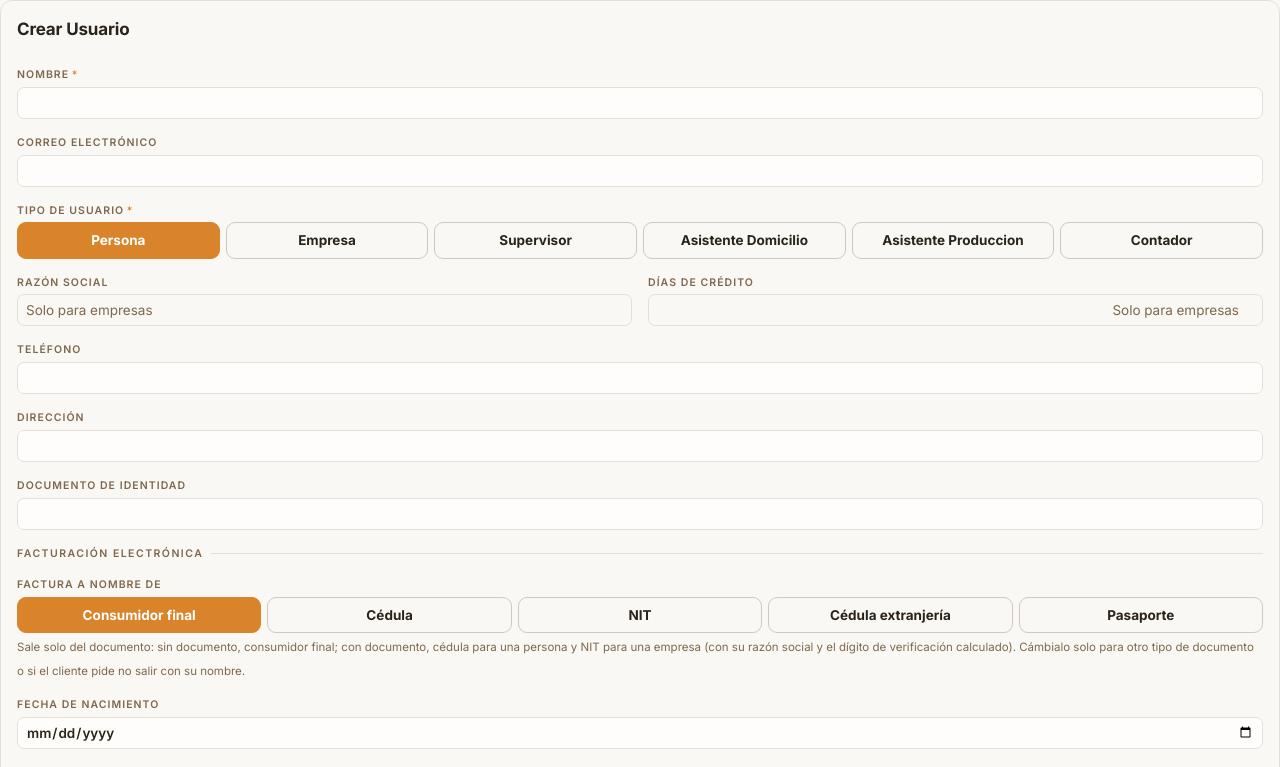
Test: BakeryUserForm validation › blocks a delivery without email
Click the radio button labelled "Asistente Domicilio": (744, 240) [643,222,846,259]
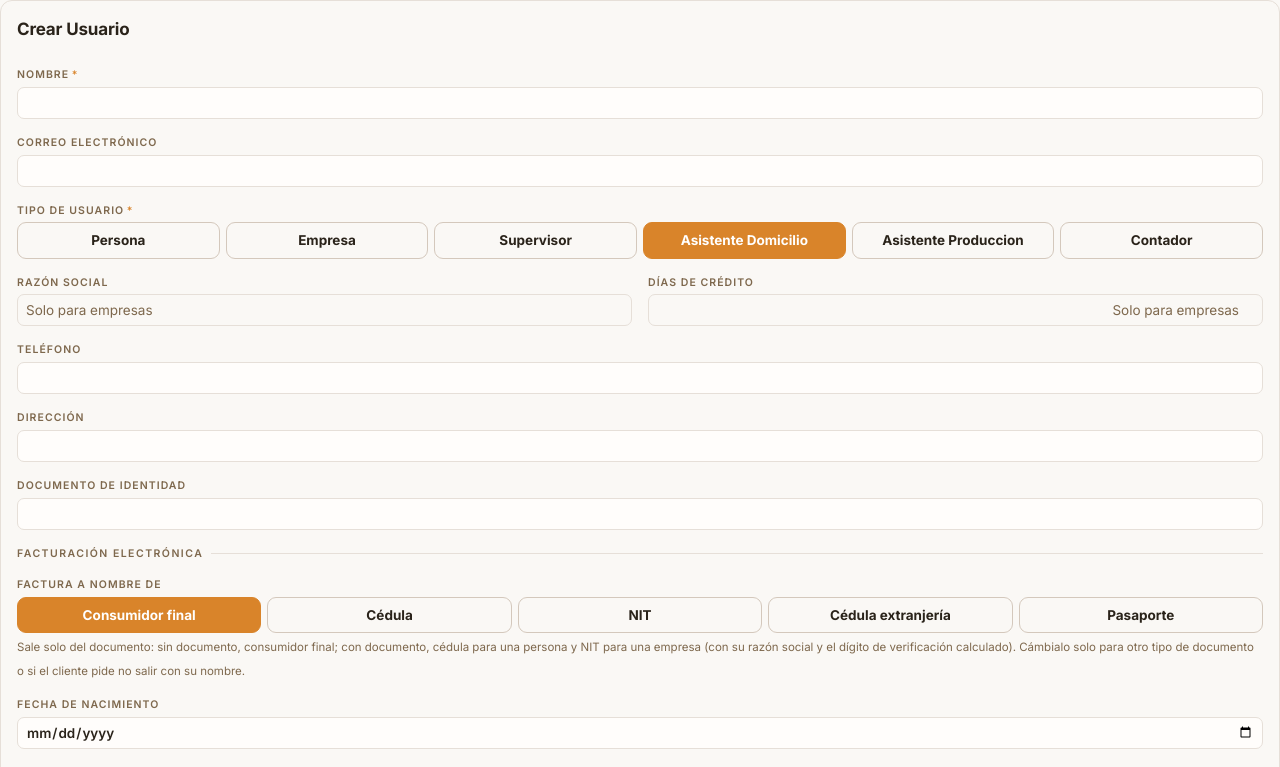
In the field labelled "Nombre": (640, 103) [17,87,1263,119], type "Ana Prueba"
(page scrolled)
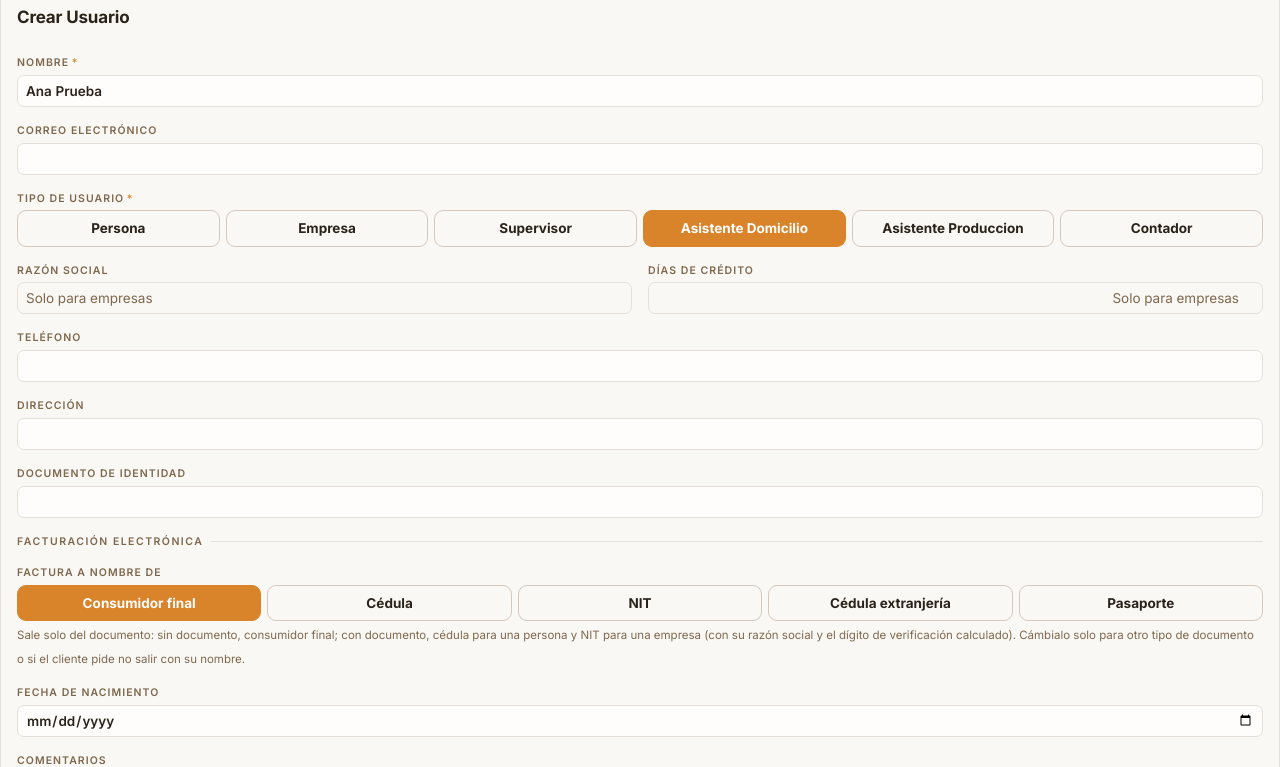
Submit the form
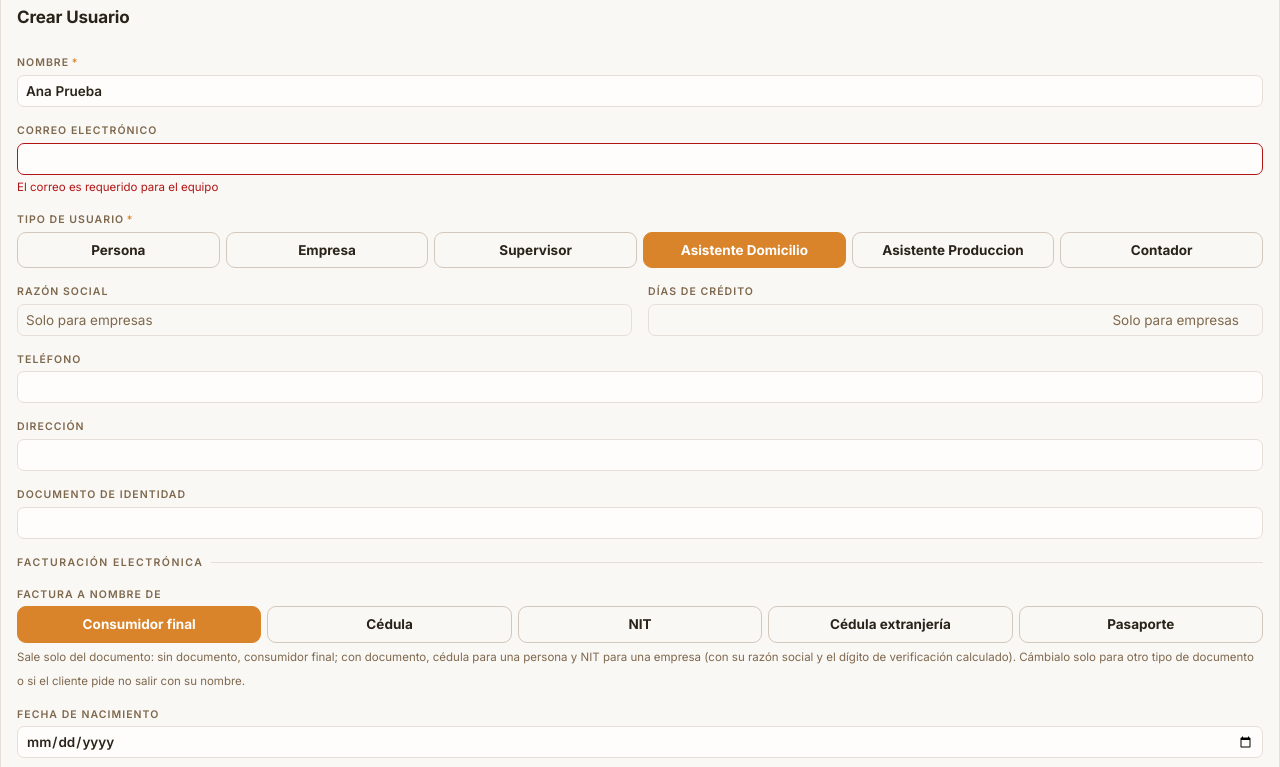
Expected: the text "El correo es requerido para el equipo" is shown, [17,180,218,194]
